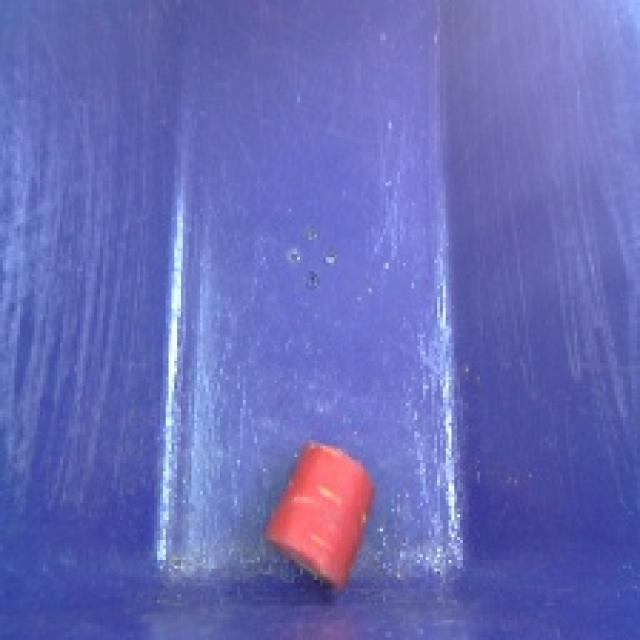carrots: (259, 434, 379, 598)
